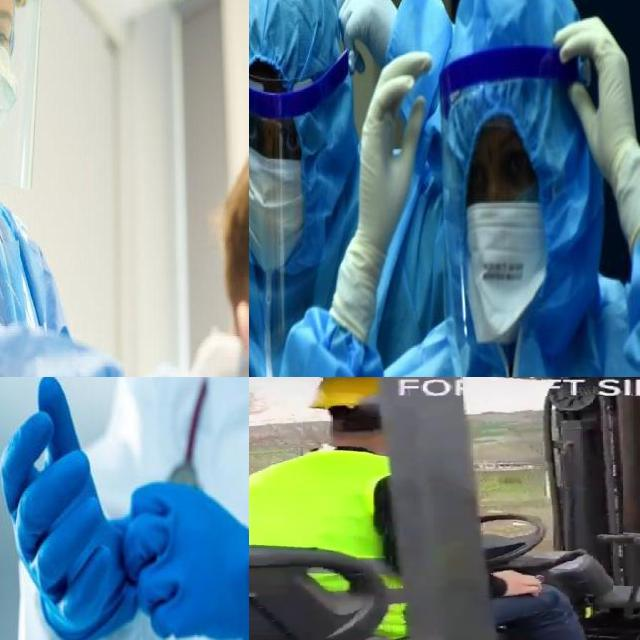Glove: (0, 377, 135, 640), (121, 480, 249, 640), (330, 46, 431, 248), (553, 11, 640, 244)
MASK: (467, 198, 552, 346), (249, 134, 303, 269), (0, 22, 19, 160)
